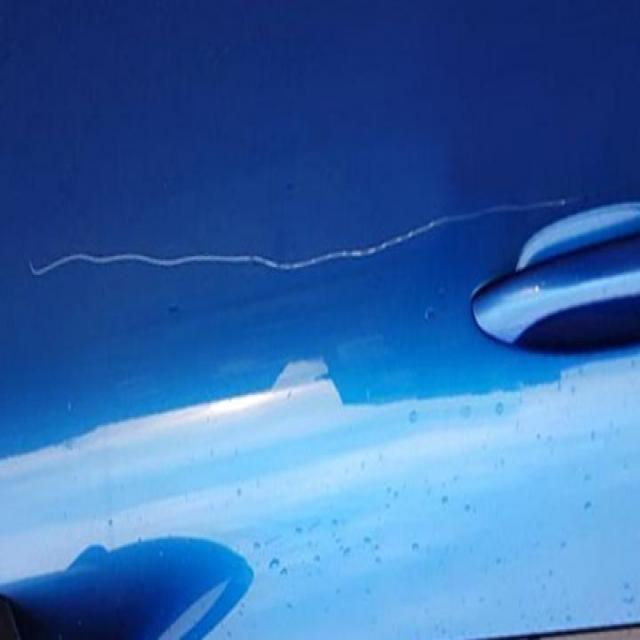scratch: (24, 184, 576, 312)
